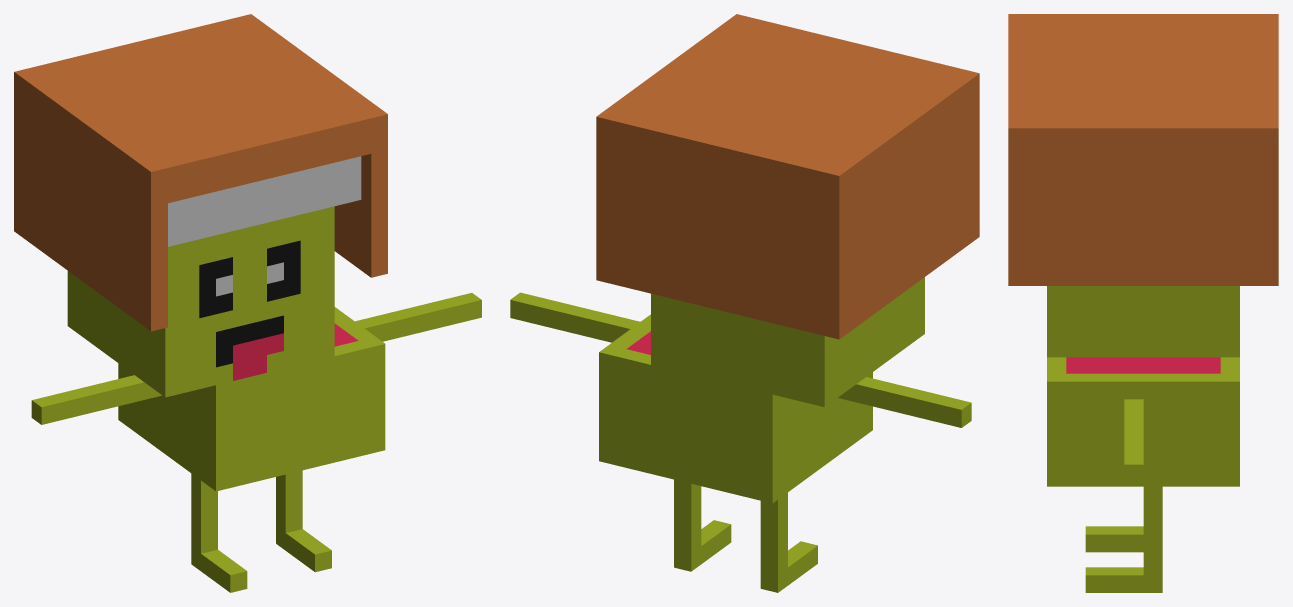
File: main.obj
The picture shows the model from 3 angles, left to right: view 1: azimuth 30°, elevation 25°; view 2: azimuth 150°, elevation 25°; view 3: azimuth 270°, elevation 25°; orthographic projection. The views are drawn at different scales.
Size of the model in its own units: 2.6 by 2.7 by 1.4.
1 material, 1 textured.
